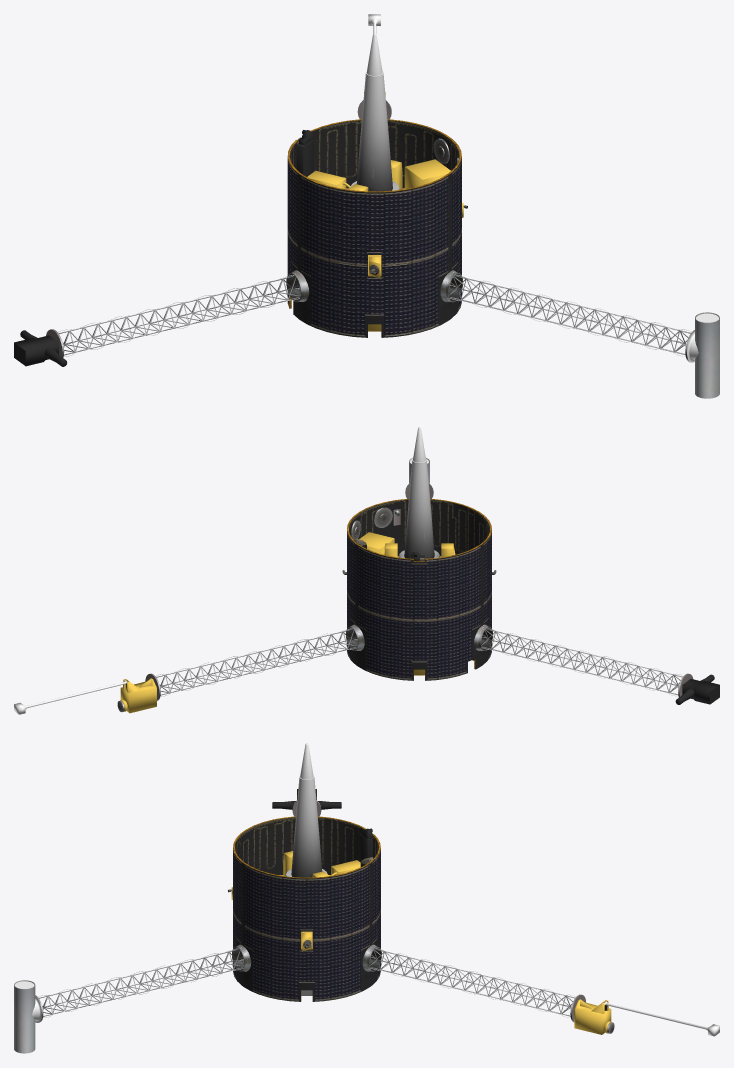
3 renders of one model, top to bottom at view 1: azimuth 30°, elevation 25°; view 2: azimuth 150°, elevation 25°; view 3: azimuth 270°, elevation 25°, orthographic. The views are drawn at different scales.
Parts seen in each view (by area): view 1: bus (×4), booms (×2), antenna, grs, ns; view 2: bus (×3), booms (×2), antenna, mag, ns; view 3: bus (×3), booms (×2), antenna, grs, mag.
Boxes of the visible parts, x1,y1,x2,y2 form: bus (×4): [286, 119, 463, 337]; booms (×2): [58, 275, 691, 356]; antenna: [350, 33, 399, 191]; grs: [685, 312, 719, 398]; ns: [14, 330, 67, 366]; bus (×3): [346, 498, 492, 680]; booms (×2): [155, 628, 683, 696]; antenna: [399, 427, 439, 558]; mag: [120, 678, 156, 713]; ns: [675, 674, 719, 704]; bus (×3): [231, 816, 381, 1001]; booms (×2): [38, 948, 575, 1017]; antenna: [286, 743, 327, 877]; grs: [14, 980, 43, 1053]; mag: [574, 999, 611, 1034].
Bounding box in the file's own units: 5.58 × 2.47 × 6.69.
6 materials, 3 textured.
